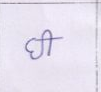i_matra: (44, 29, 54, 56)
